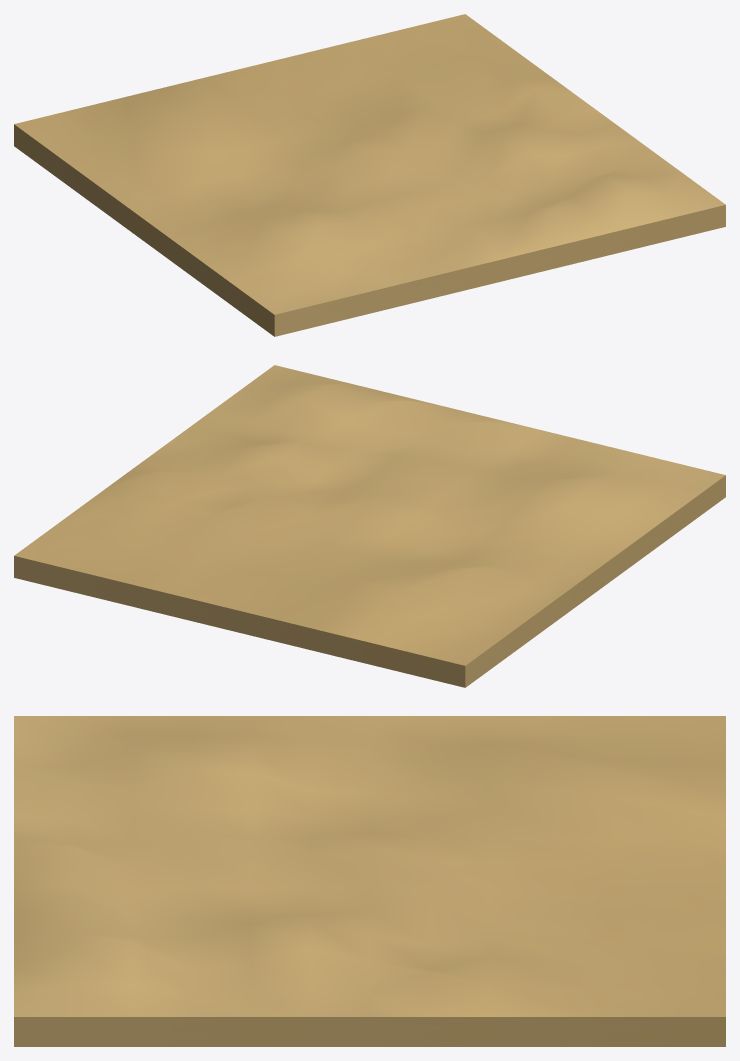
Rendered from ground_1.glb.
3 views of the same model, one above another, from view 1: azimuth 30°, elevation 25°; view 2: azimuth 150°, elevation 25°; view 3: azimuth 270°, elevation 25° (orthographic). The views are drawn at different scales.
Parts seen in each view (by area): view 1: ground_1; view 2: ground_1; view 3: ground_1.
Part boxes in pixels (bbox=[...]): ground_1: bbox=[14, 14, 725, 336]; ground_1: bbox=[14, 365, 725, 687]; ground_1: bbox=[14, 716, 725, 1046].
Size of the model in its own units: 2 by 0.1653 by 2.
Materials: 1 (1 with a texture image).
